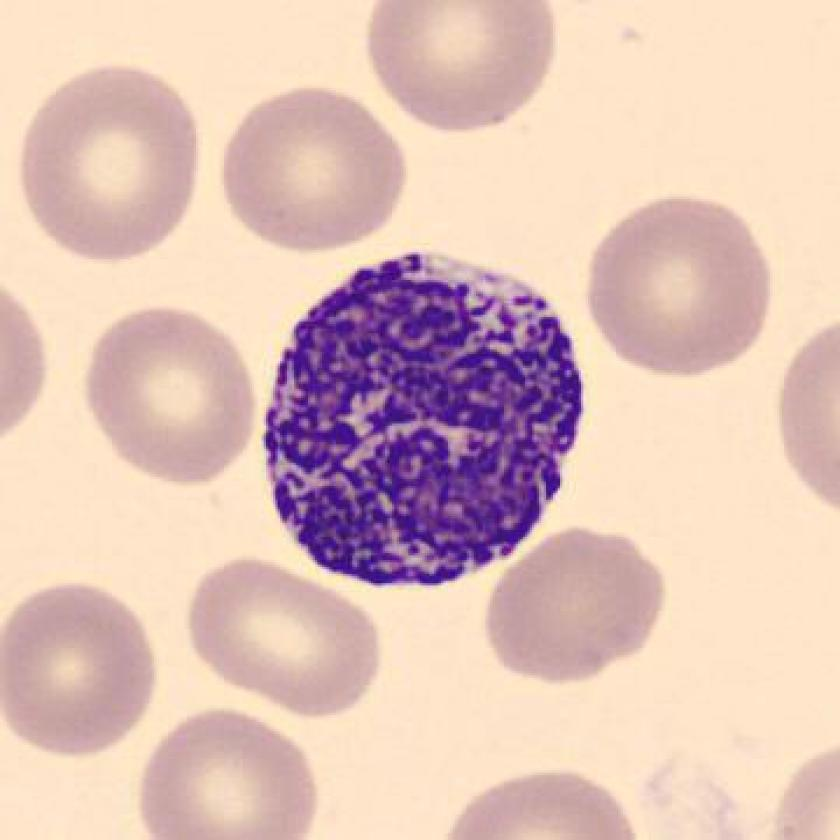basophil: (251, 249, 596, 603)
